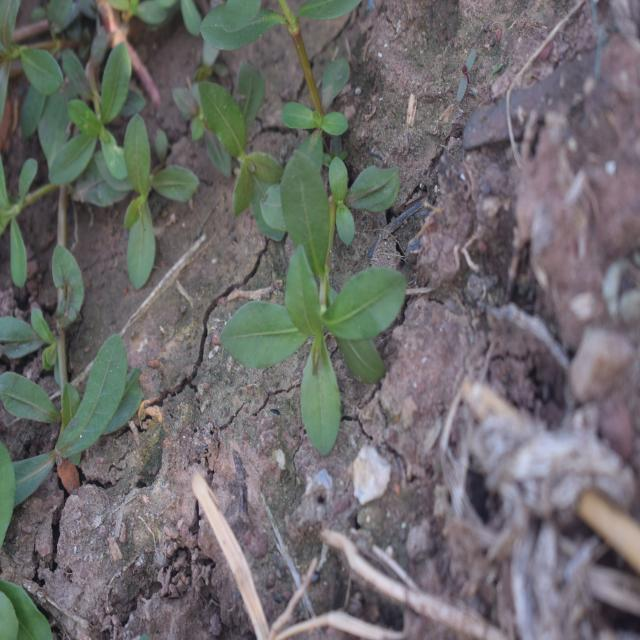Alligatorweed: (224, 42, 416, 430), (44, 25, 194, 296)
